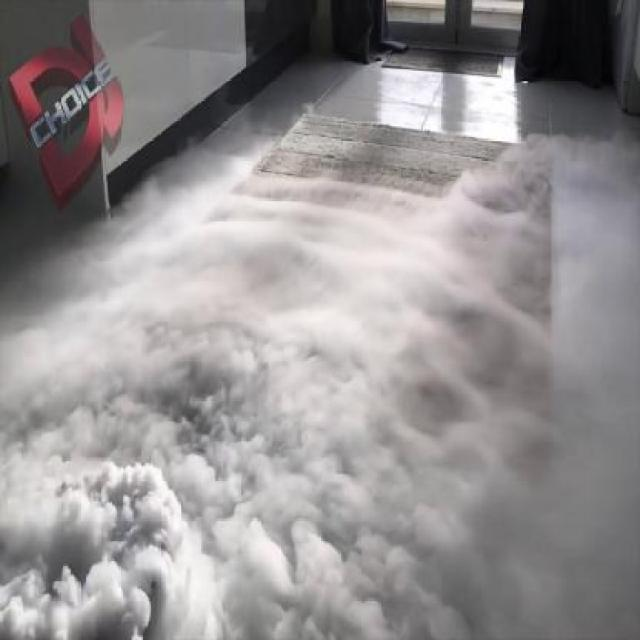smoke: (131, 131, 638, 640), (6, 234, 428, 640)
